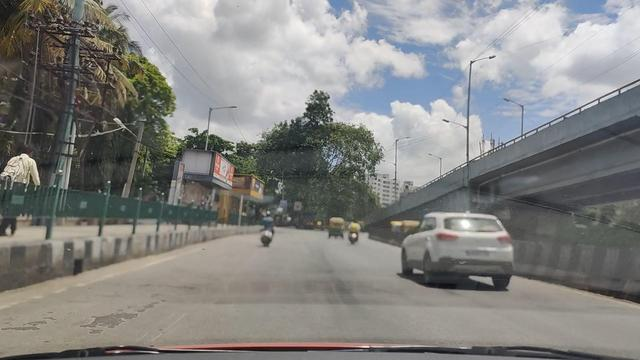LMV: (401, 203, 517, 295), (257, 206, 272, 247)
RoadDamages: (94, 305, 142, 328), (14, 309, 43, 332)
